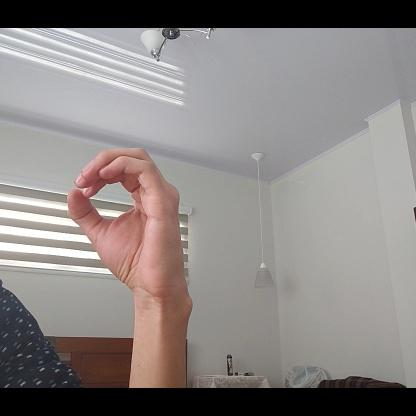O: (63, 145, 188, 306)
